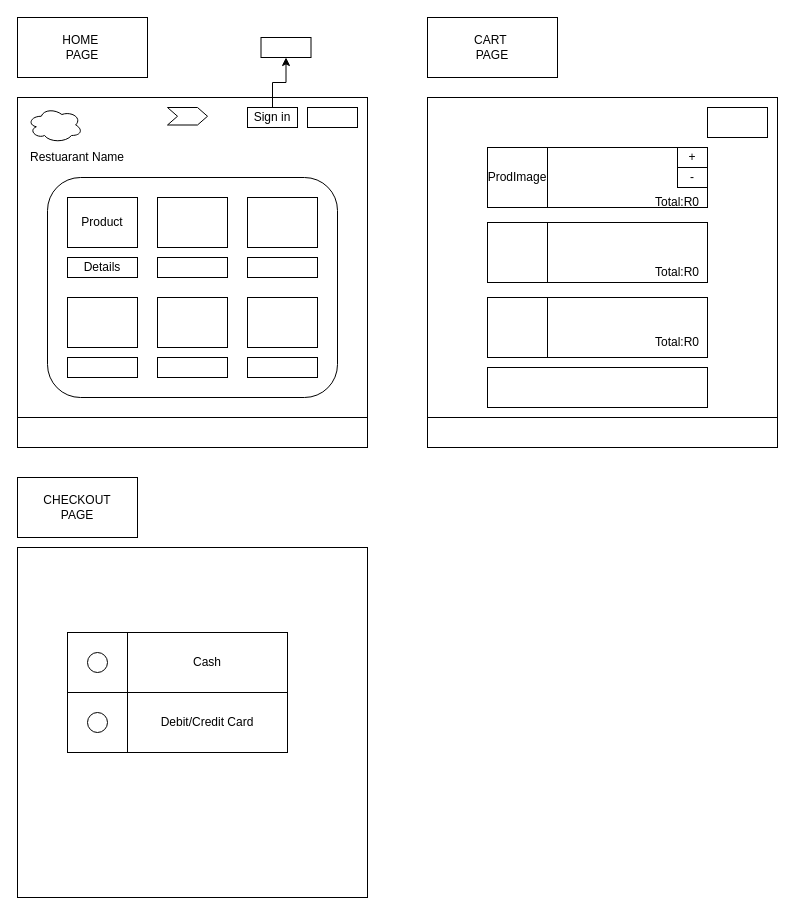
Image size: 795x915. Some labels were removed from this diagram. Each missing label, with the box of its shape:
Cart: (166, 106, 208, 125)
Checkout: (706, 106, 768, 138)
Logo: (26, 106, 82, 142)
Logout: (260, 36, 311, 58)
ProdName Price: R0 Buy Quan: 5: (546, 146, 708, 208)
Sign up: (306, 106, 358, 128)
Total: R0: (486, 366, 708, 408)
